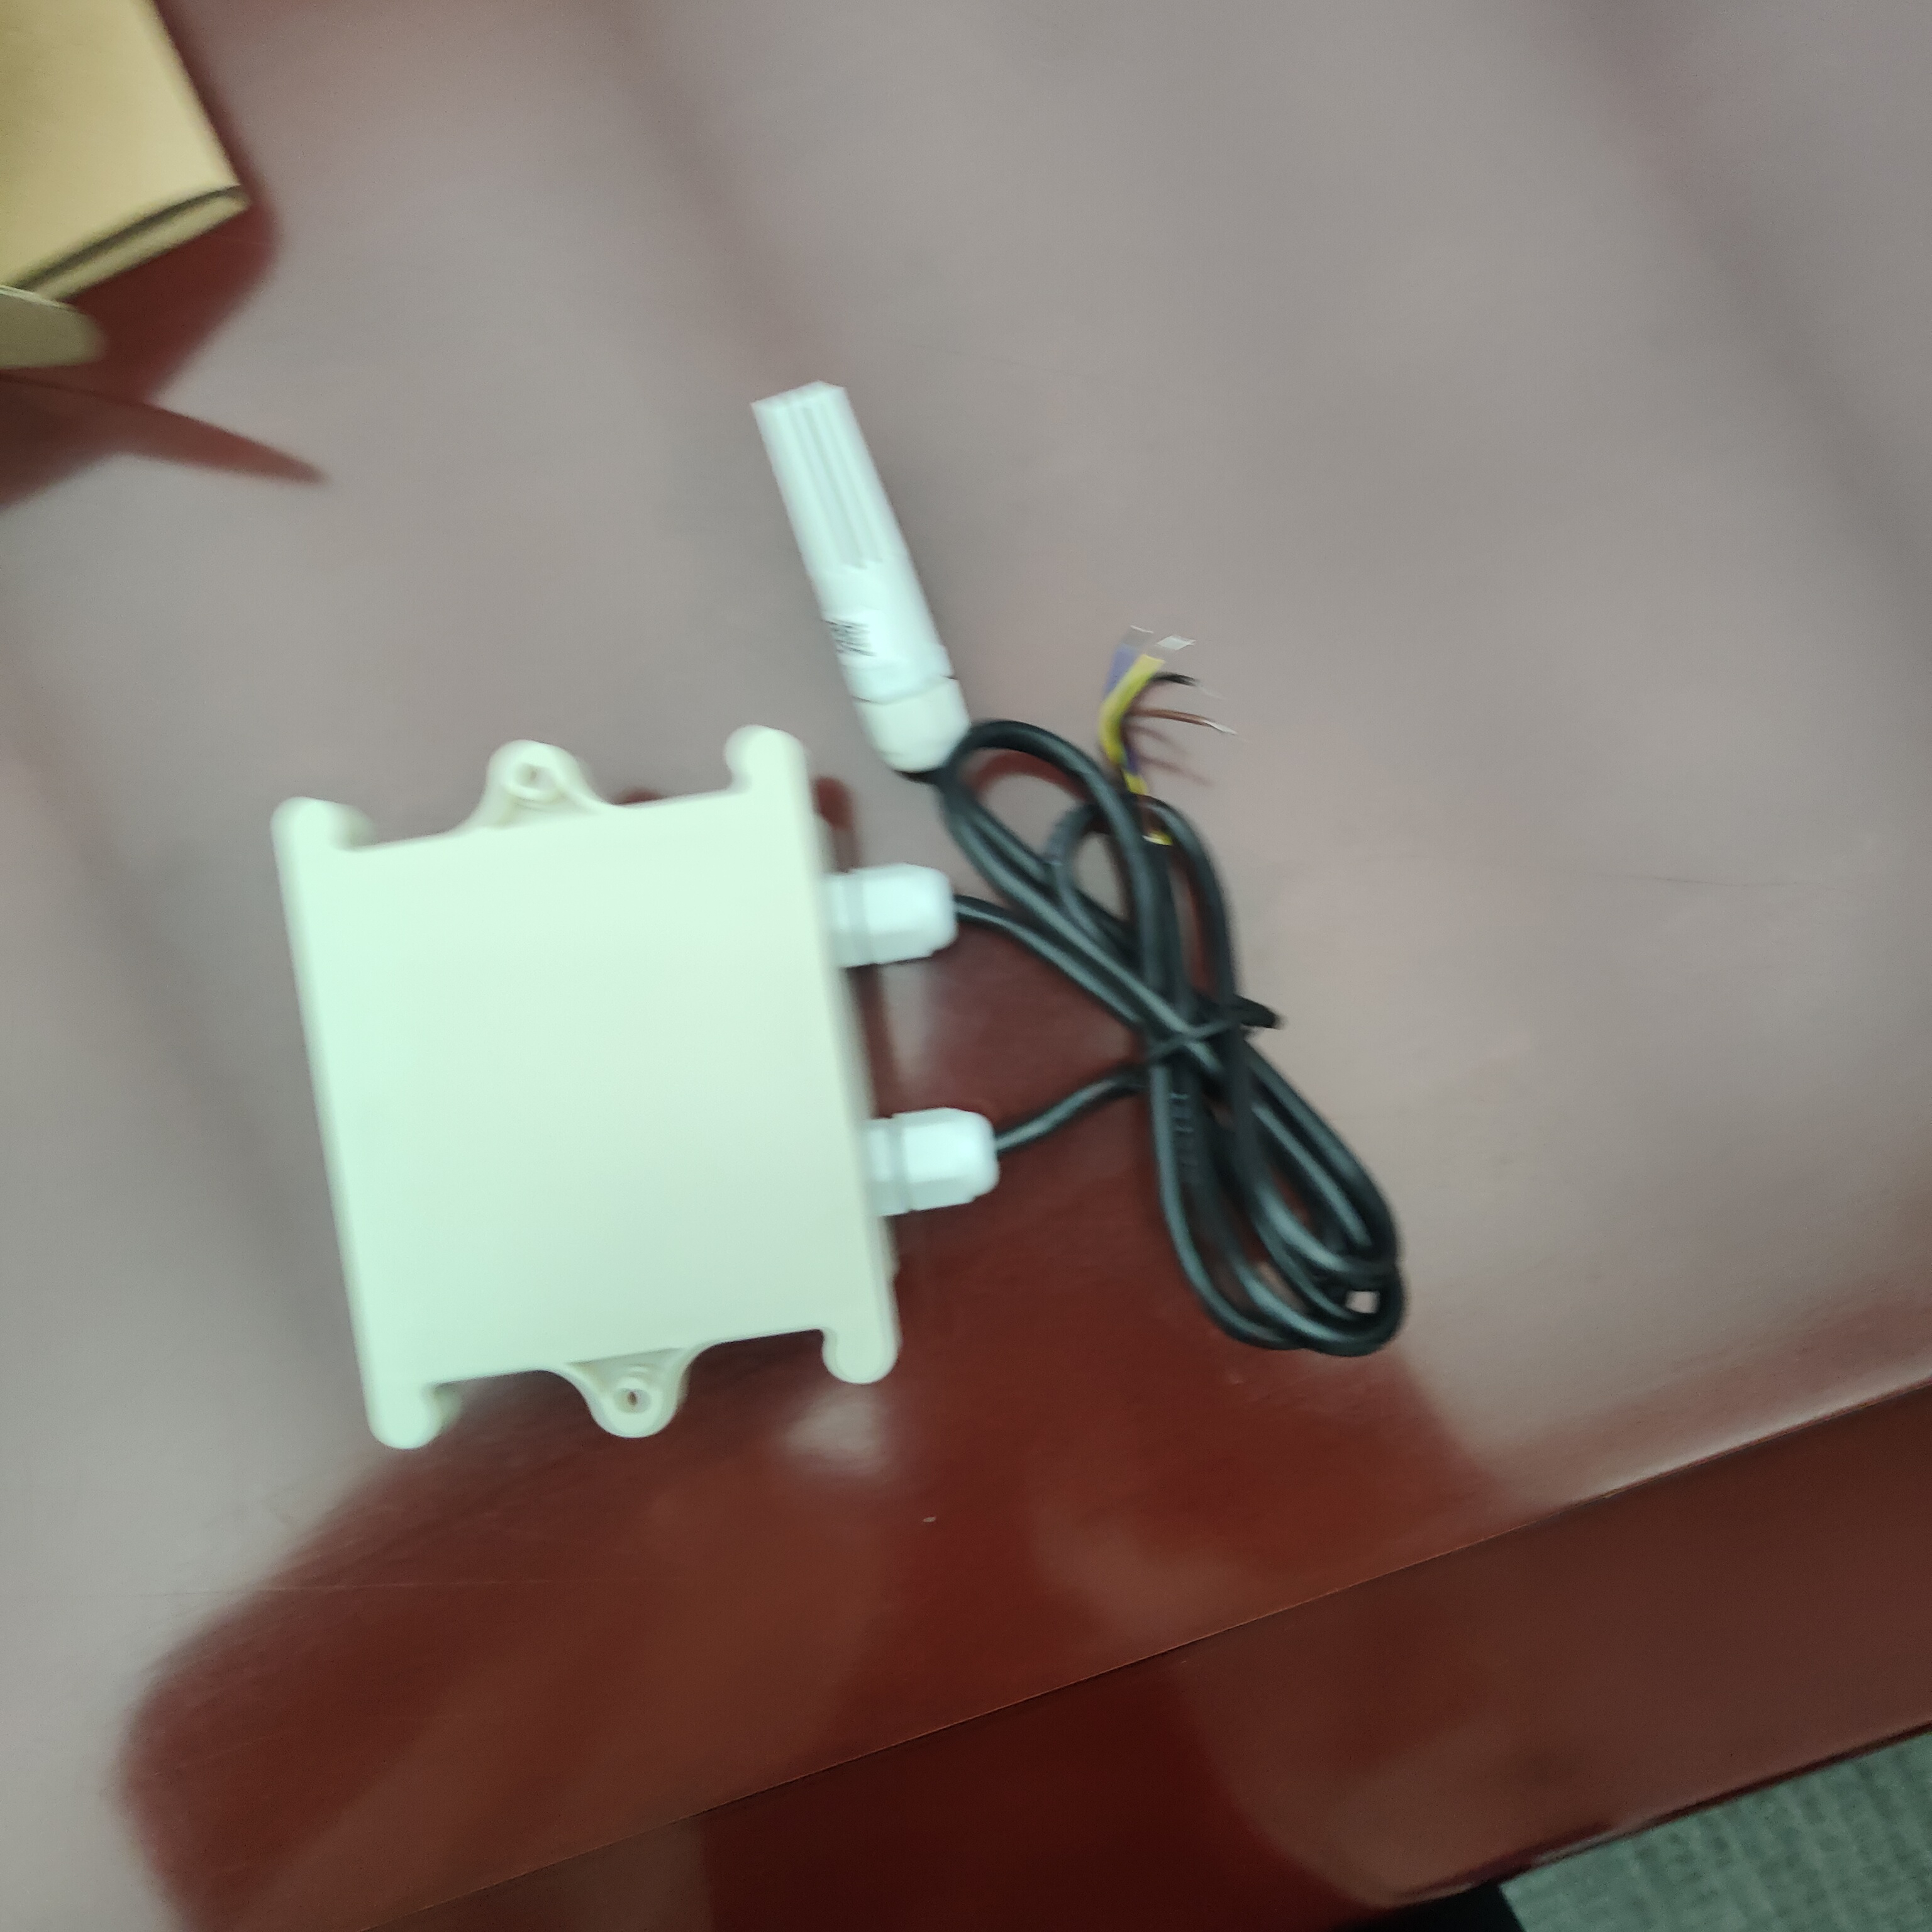wsdbsq: (251, 704, 978, 1522)
